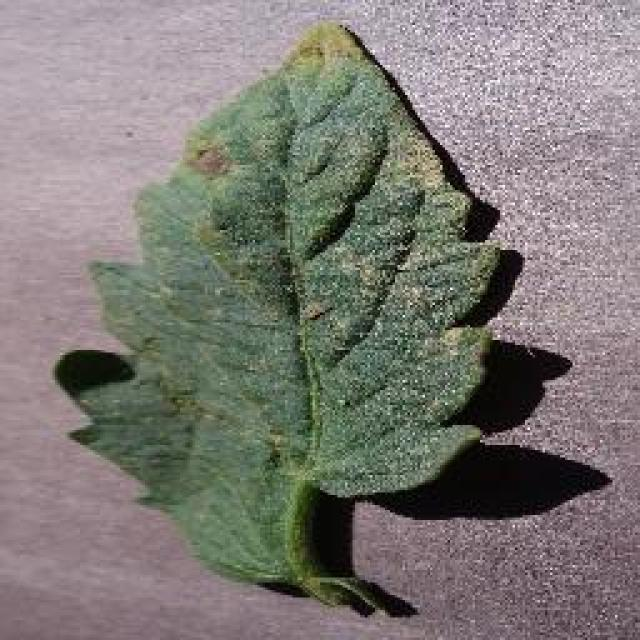Tomato Early blight leaf: (81, 19, 504, 606)
